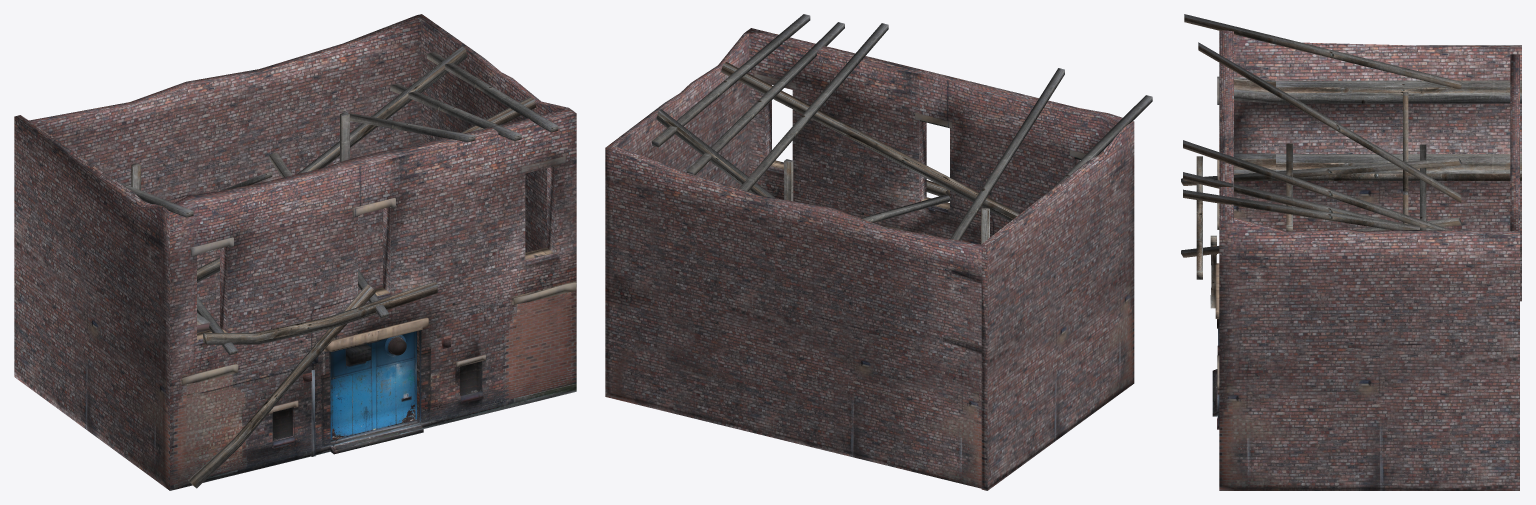
File: war_torn12.obj
The picture shows the model from 3 angles, left to right: view 1: azimuth 30°, elevation 25°; view 2: azimuth 150°, elevation 25°; view 3: azimuth 270°, elevation 25°; orthographic projection. The views are drawn at different scales.
Parts seen in each view (by area): view 1: war_torn12; view 2: war_torn12; view 3: war_torn12.
Boxes of the visible parts, left/top/right/bottom form: war_torn12: left=14, top=14, right=576, bottom=490; war_torn12: left=605, top=14, right=1152, bottom=490; war_torn12: left=1181, top=14, right=1521, bottom=490.
Size of the model in its own units: 553 by 395 by 411.
1 material, 1 textured.
